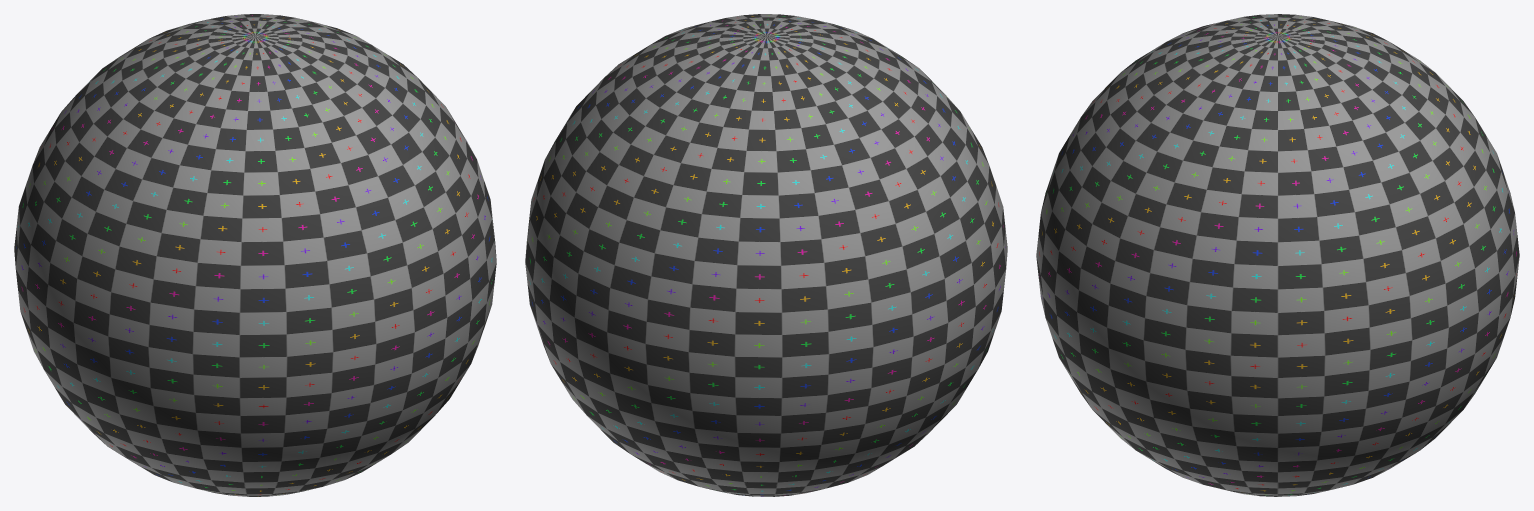
3 renders of one model, left to right at view 1: azimuth 30°, elevation 25°; view 2: azimuth 150°, elevation 25°; view 3: azimuth 270°, elevation 25°, orthographic.
Visible parts, largest first — view 1: Sphere; view 2: Sphere; view 3: Sphere.
Boxes of the visible parts, x1,y1,x2,y2 form: Sphere: (14,14,496,496); Sphere: (525,14,1007,496); Sphere: (1036,14,1519,496).
Bounding box in the file's own units: 2 × 2 × 2.
1 material, 1 textured.
